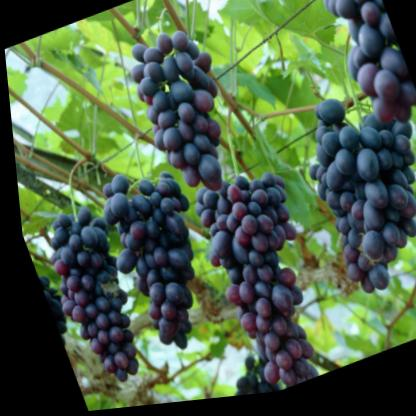grape: (162, 147, 350, 404), (276, 64, 416, 337), (13, 166, 165, 416), (79, 143, 229, 374), (95, 3, 251, 217), (301, 0, 416, 182)
